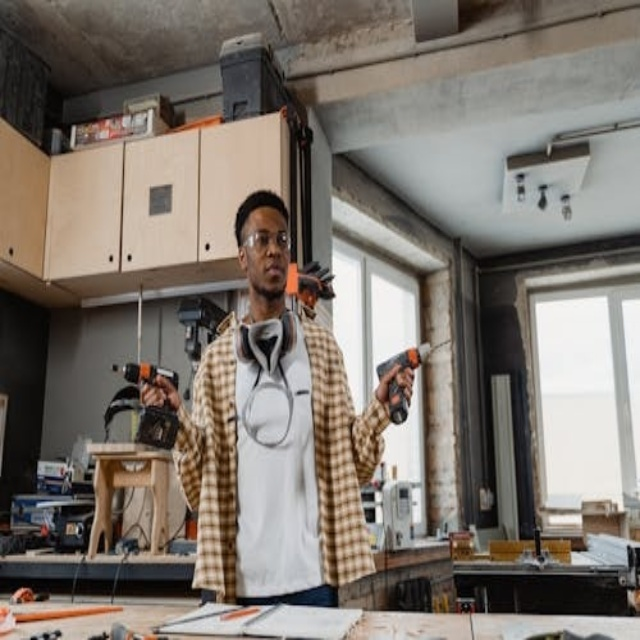Gafas: (237, 223, 294, 250)
Sin_guantes: (136, 359, 183, 417), (376, 358, 415, 414)
Sin_mascara: (253, 258, 289, 281)
